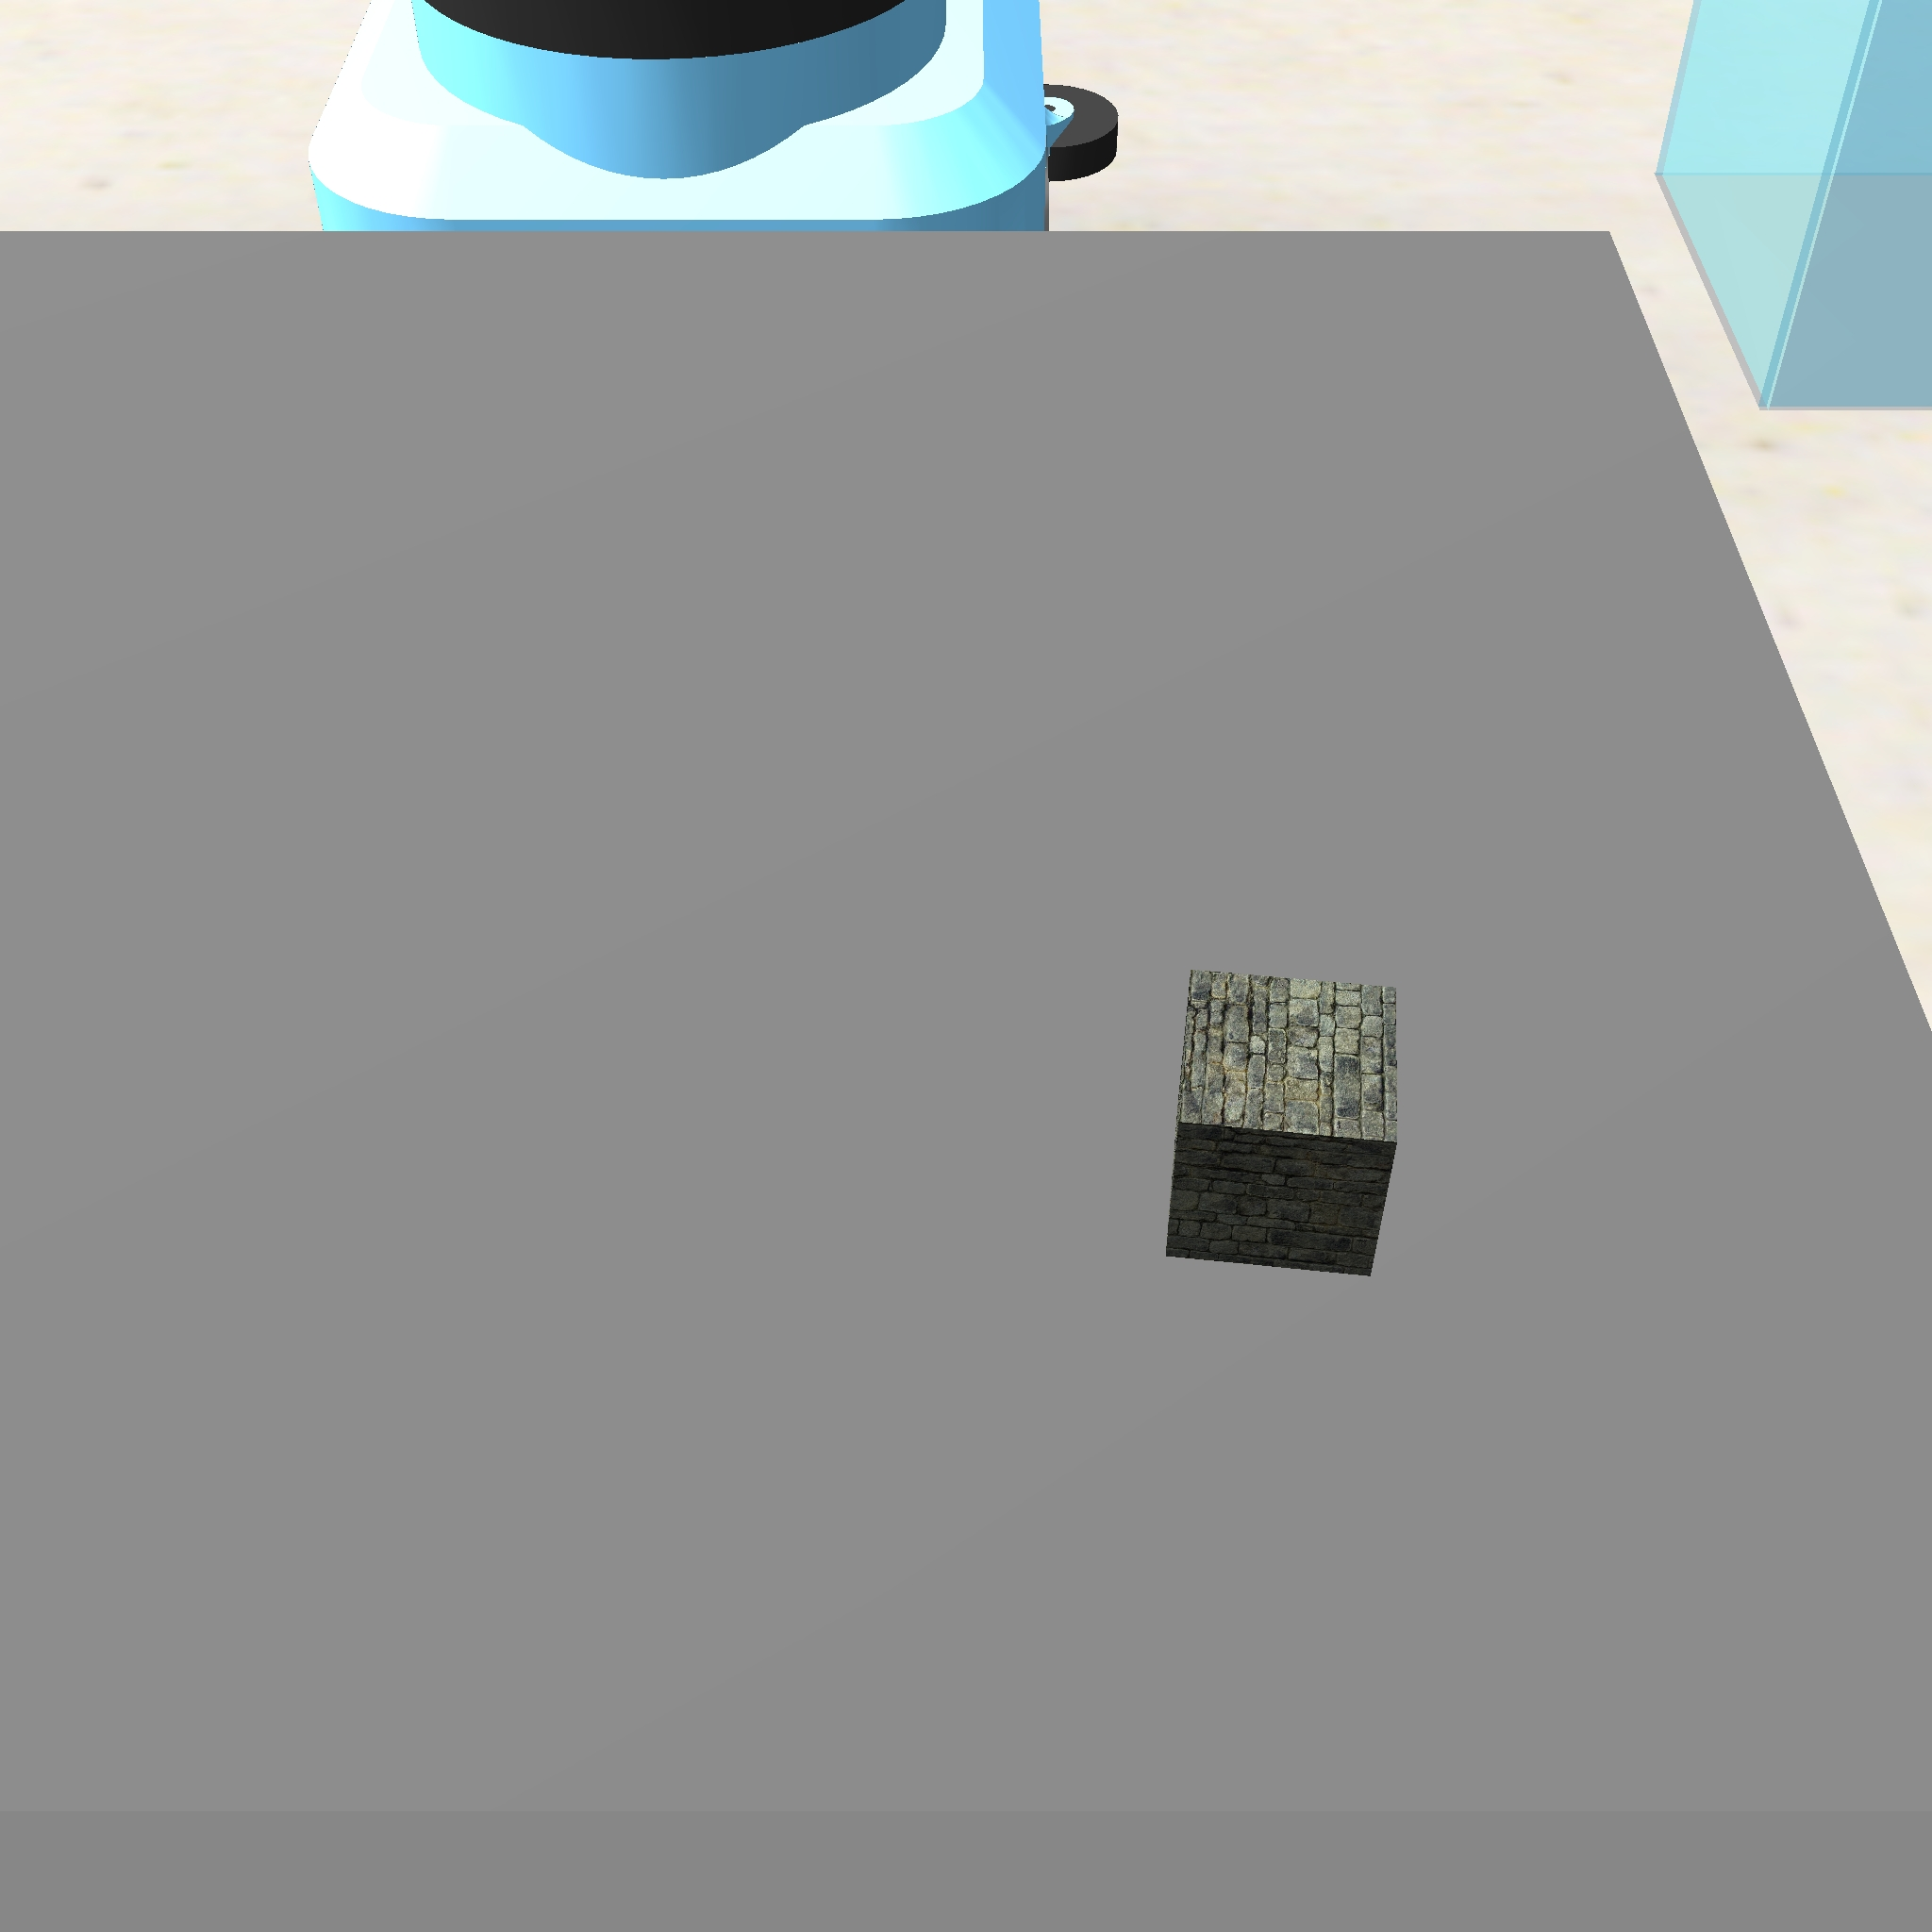cube: (1157, 957, 1412, 1290)
